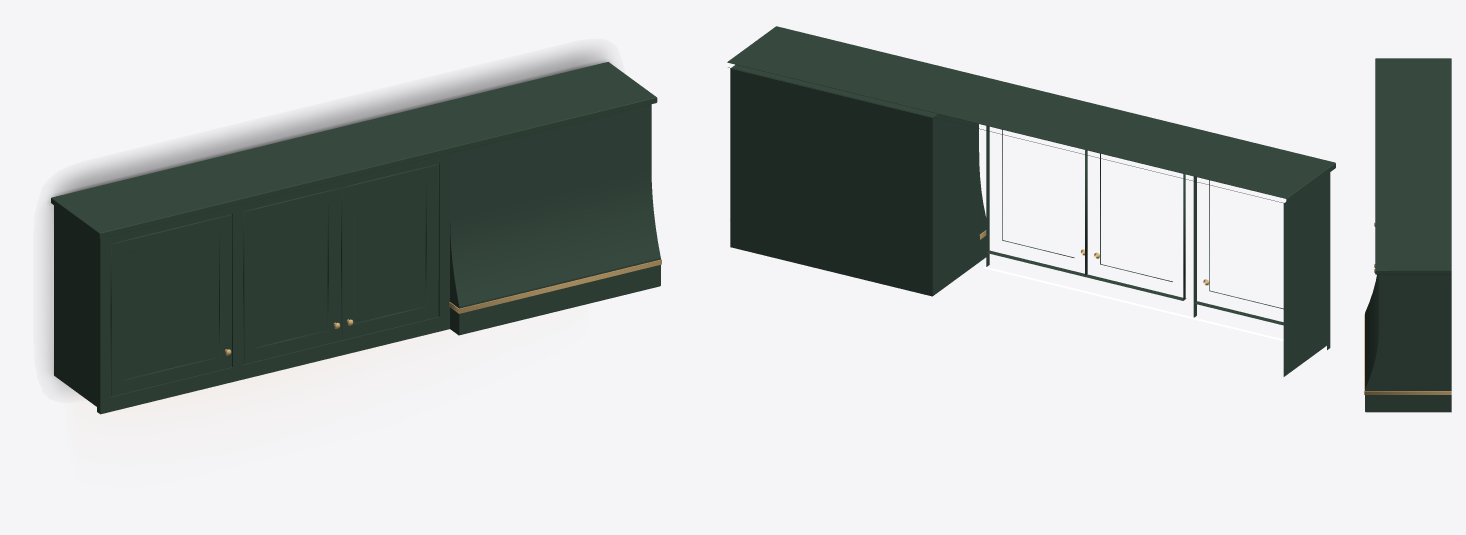
The model's file is kitchen_wall.glb.
The picture shows the model from 3 angles, left to right: view 1: azimuth 30°, elevation 25°; view 2: azimuth 150°, elevation 25°; view 3: azimuth 270°, elevation 25°; orthographic projection. The views are drawn at different scales.
Visible parts, largest first — view 1: kitchen_wall_LOD0, kitchen_wall_Shadow; view 2: kitchen_wall_LOD0; view 3: kitchen_wall_LOD0.
Part boxes in pixels (box(x1,y1,x2,y2)): kitchen_wall_LOD0: box(51, 62, 661, 414); kitchen_wall_Shadow: box(48, 51, 607, 386); kitchen_wall_LOD0: box(727, 26, 1335, 376); kitchen_wall_LOD0: box(1364, 58, 1451, 412).
Size of what is drawn, in the model's own units: 2.75 by 1.51 by 0.423.
7 materials, 2 textured.
